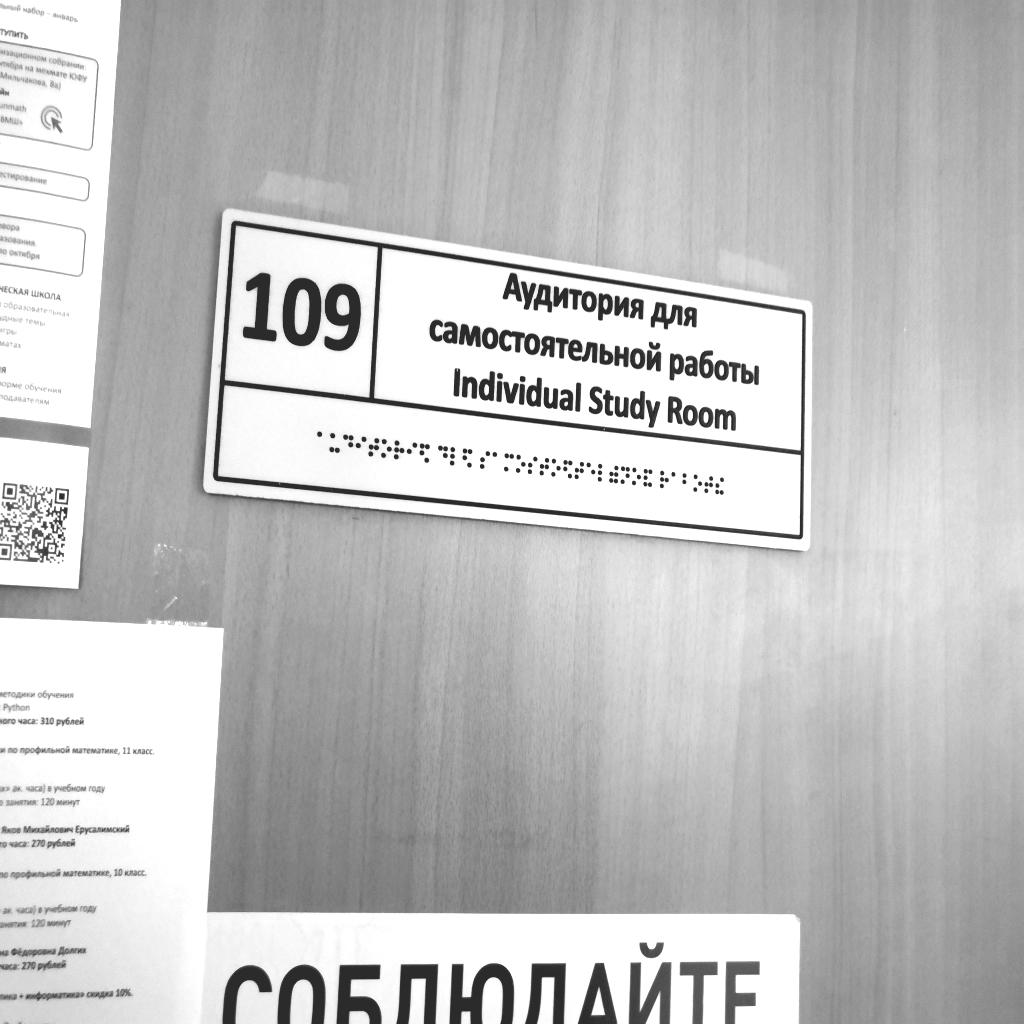_n: (621, 466, 630, 485)
_y: (329, 433, 340, 454)
a: (317, 431, 328, 452), (492, 452, 503, 471), (671, 471, 680, 489)
b: (682, 473, 692, 491)
d: (343, 434, 353, 455), (438, 445, 448, 465)
e: (586, 462, 596, 482)
i: (355, 436, 367, 456), (407, 442, 418, 462)
iKratkoe: (643, 468, 653, 487)
ii: (715, 477, 725, 495)
l: (450, 446, 460, 466), (597, 464, 607, 483)
m: (504, 453, 515, 473)
myagkiy: (609, 466, 619, 484)
o: (381, 438, 392, 459), (516, 454, 526, 473), (551, 459, 561, 478), (632, 467, 641, 486), (693, 474, 702, 492)
r: (394, 440, 405, 460), (660, 470, 669, 489)
s: (480, 451, 491, 470), (527, 456, 538, 475)
t: (369, 438, 380, 457), (539, 457, 550, 476), (575, 461, 585, 480), (704, 475, 714, 494)
ya: (420, 443, 430, 463), (463, 448, 473, 468), (563, 459, 573, 479)
